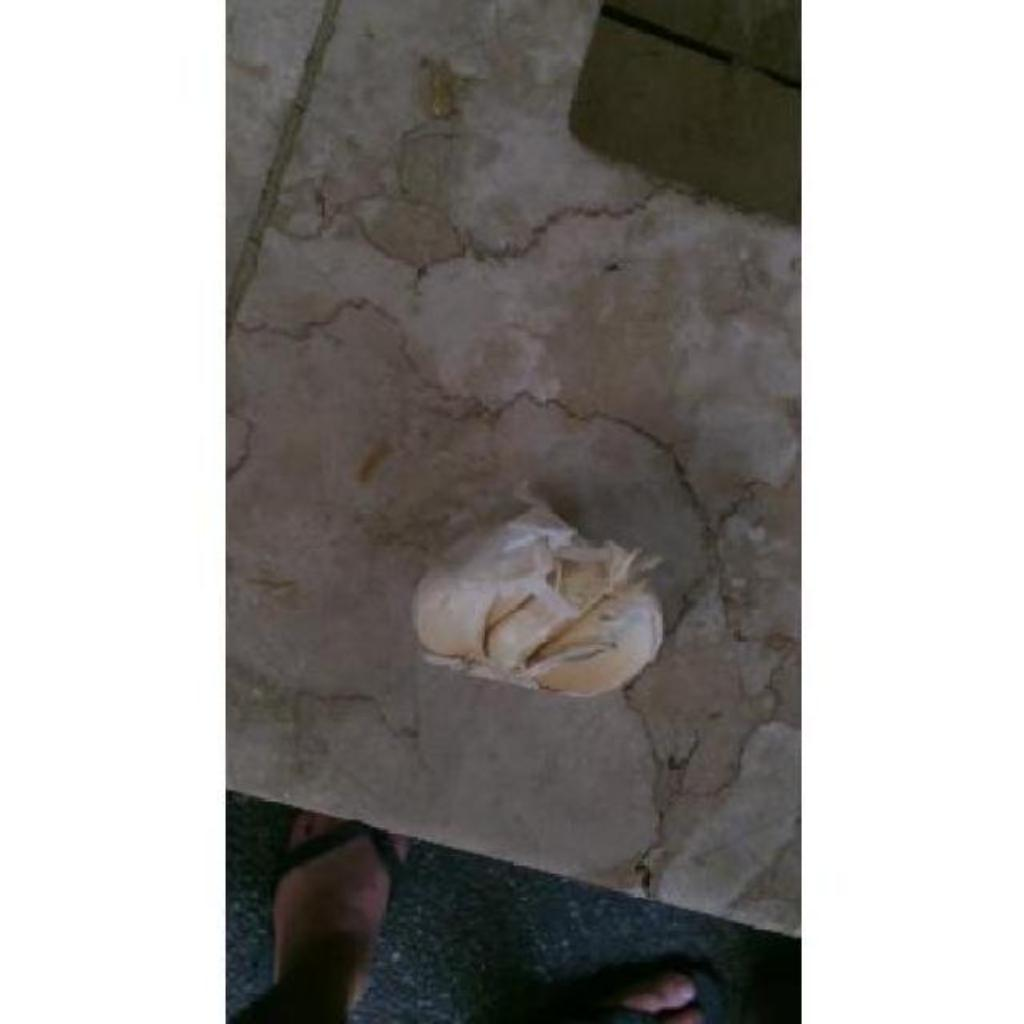garlic: (412, 504, 662, 695)
